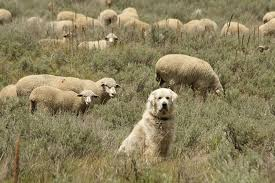dog_sitting: (113, 88, 179, 174)
